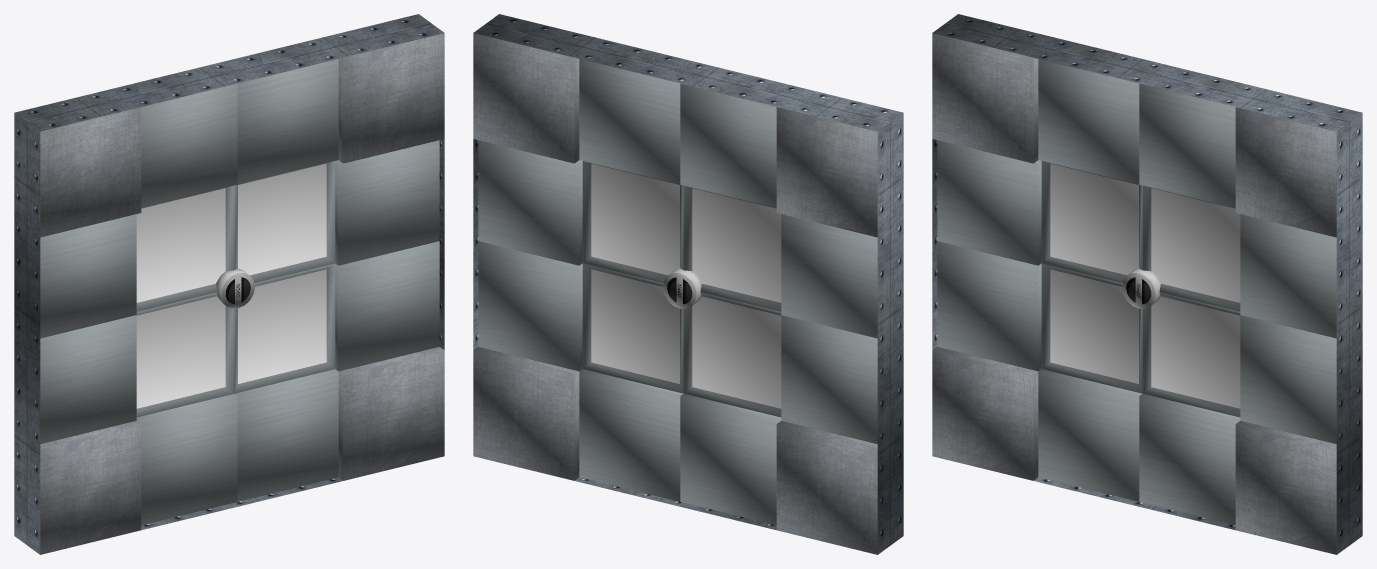
The model's file is door.obj.
3 views of the same model, side by side, from view 1: azimuth 30°, elevation 25°; view 2: azimuth 150°, elevation 25°; view 3: azimuth 330°, elevation 25° (orthographic).
Parts seen in each view (by area): view 1: frame, static_4_4, static_4_1, static_1_4, door_3_4, door_4_3, static_1_1, door_4_2, door_2_4, door_3_3, door_3_1, door_1_3 (+6 smaller); view 2: frame, static_4_4, static_4_1, static_1_4, door_3_4, door_4_3, static_1_1, door_4_2, door_2_4, door_3_3, door_3_1, door_1_3 (+6 smaller); view 3: frame, static_1_4, static_1_1, static_4_4, door_2_4, door_1_3, static_4_1, door_1_2, door_3_4, door_2_3, door_2_1, door_4_3 (+6 smaller).
Boxes of the visible parts, x1=… form: frame: x1=14, y1=14, x2=444, y2=554; static_4_4: x1=338, y1=347, x2=444, y2=480; static_4_1: x1=338, y1=33, x2=444, y2=163; static_1_4: x1=40, y1=421, x2=141, y2=554; door_3_4: x1=234, y1=369, x2=338, y2=501; door_4_3: x1=335, y1=241, x2=439, y2=371; static_1_1: x1=40, y1=107, x2=141, y2=237; door_4_2: x1=335, y1=140, x2=439, y2=265; door_2_4: x1=136, y1=394, x2=237, y2=525; door_3_3: x1=234, y1=263, x2=335, y2=393; door_3_1: x1=237, y1=59, x2=338, y2=184; door_1_3: x1=40, y1=315, x2=136, y2=443; frame: x1=473, y1=14, x2=903, y2=554; static_4_4: x1=473, y1=347, x2=579, y2=480; static_4_1: x1=473, y1=33, x2=579, y2=163; static_1_4: x1=776, y1=421, x2=877, y2=554; door_3_4: x1=579, y1=369, x2=683, y2=501; door_4_3: x1=478, y1=241, x2=582, y2=371; static_1_1: x1=776, y1=107, x2=877, y2=237; door_4_2: x1=478, y1=140, x2=582, y2=265; door_2_4: x1=680, y1=394, x2=781, y2=525; door_3_3: x1=582, y1=263, x2=683, y2=393; door_3_1: x1=579, y1=59, x2=680, y2=184; door_1_3: x1=781, y1=315, x2=877, y2=443; frame: x1=932, y1=14, x2=1362, y2=554; static_1_4: x1=932, y1=347, x2=1038, y2=480; static_1_1: x1=932, y1=33, x2=1038, y2=163; static_4_4: x1=1235, y1=421, x2=1336, y2=554; door_2_4: x1=1038, y1=369, x2=1142, y2=501; door_1_3: x1=937, y1=241, x2=1041, y2=371; static_4_1: x1=1235, y1=107, x2=1336, y2=237; door_1_2: x1=937, y1=140, x2=1041, y2=265; door_3_4: x1=1139, y1=394, x2=1240, y2=525; door_2_3: x1=1041, y1=263, x2=1142, y2=393; door_2_1: x1=1038, y1=59, x2=1139, y2=184; door_4_3: x1=1240, y1=315, x2=1336, y2=443.
Bounding box in the file's own units: 3.6 × 3.6 × 0.4.
